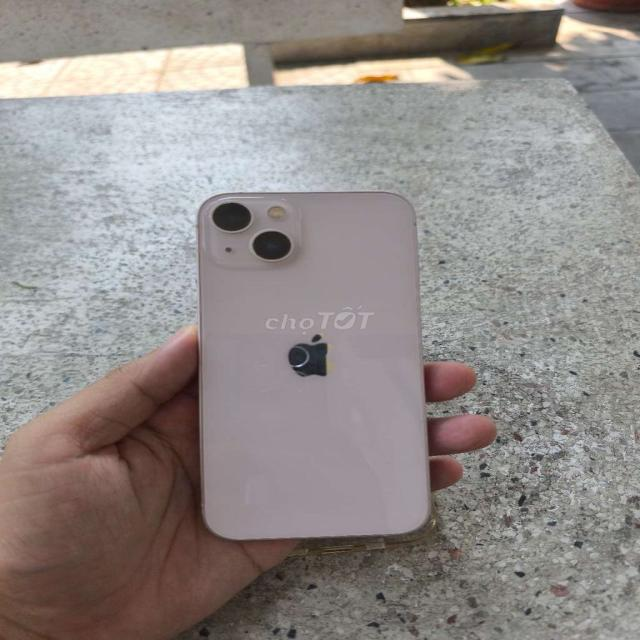gen_12_13: (194, 188, 438, 545)
